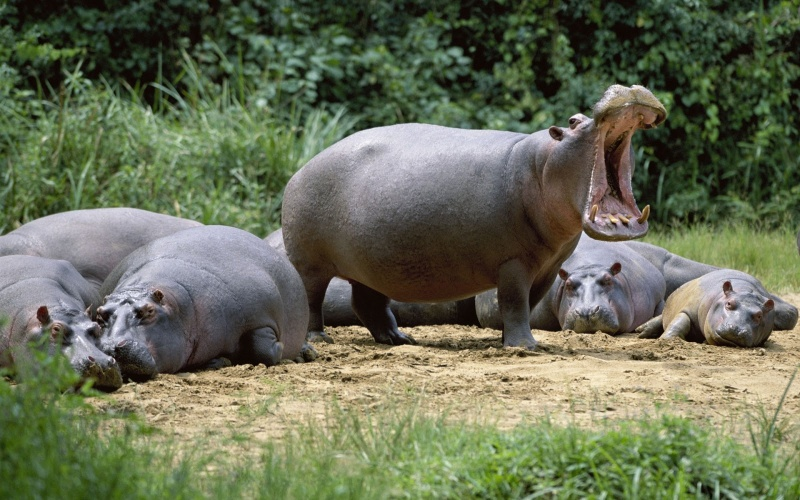hipopotamo: (281, 85, 672, 346), (95, 224, 315, 377), (0, 251, 123, 401), (531, 230, 669, 354), (645, 266, 788, 353)
